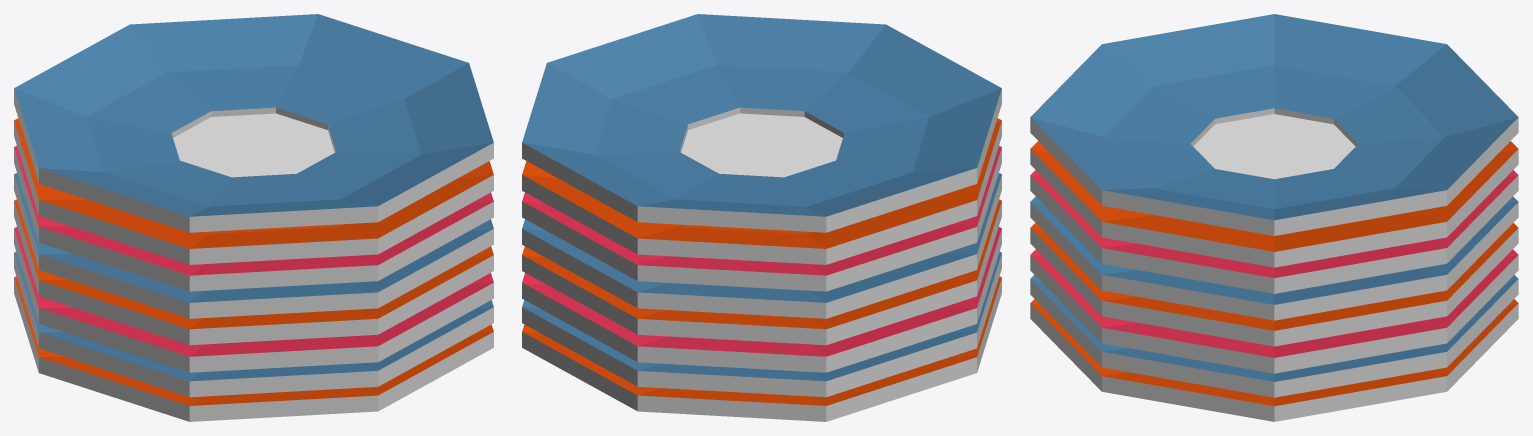
File: C_Plates_Small.fbx
3 renders of one model, left to right at view 1: azimuth 30°, elevation 25°; view 2: azimuth 150°, elevation 25°; view 3: azimuth 270°, elevation 25°, orthographic.
Parts seen in each view (by area): view 1: C_Plates_Small; view 2: C_Plates_Small; view 3: C_Plates_Small.
Part boxes in pixels (box(x1,y1,x2,y2)): C_Plates_Small: box(14, 14, 493, 421); C_Plates_Small: box(522, 14, 1001, 421); C_Plates_Small: box(1030, 14, 1518, 421).
Size of the model in its own units: 94.86 by 94.86 by 49.2.
